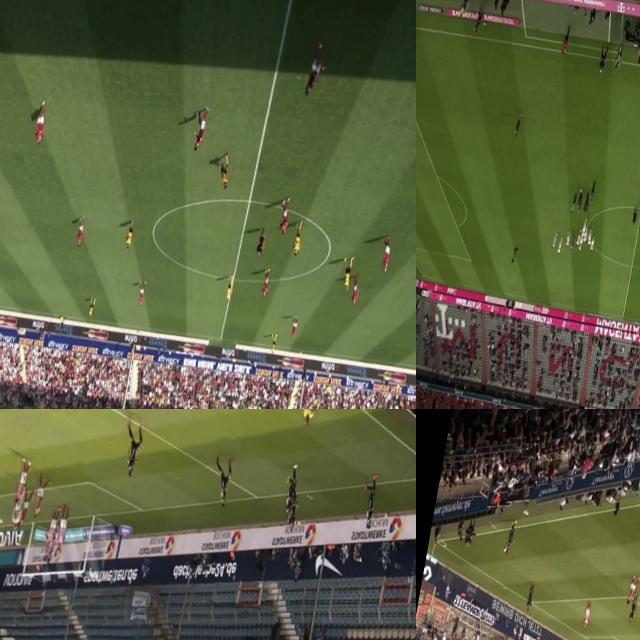ball: (502, 545, 508, 558), (0, 514, 4, 527)
player: (118, 416, 148, 479), (206, 452, 238, 508), (354, 468, 382, 532), (278, 460, 302, 523), (302, 41, 326, 97), (43, 512, 61, 565), (31, 100, 50, 150), (53, 502, 72, 552), (14, 485, 34, 532), (31, 472, 50, 518), (16, 454, 32, 504), (193, 106, 210, 153), (9, 484, 25, 530), (44, 505, 61, 548), (276, 196, 292, 234), (377, 237, 392, 277), (215, 154, 231, 190), (625, 572, 639, 606), (292, 220, 304, 256), (342, 256, 354, 292), (122, 217, 134, 253), (74, 216, 86, 252), (349, 276, 361, 310), (504, 519, 516, 552), (580, 602, 593, 630), (524, 586, 536, 616), (224, 272, 235, 304), (135, 279, 147, 308), (288, 313, 299, 344), (627, 593, 638, 624), (269, 334, 279, 361), (261, 271, 271, 296), (86, 296, 95, 322), (588, 234, 596, 252), (565, 230, 572, 248), (580, 220, 587, 238), (569, 232, 575, 252), (556, 237, 563, 254), (577, 237, 584, 253), (582, 227, 588, 244), (552, 232, 558, 248), (586, 232, 592, 246), (576, 232, 580, 246), (579, 231, 583, 245)
